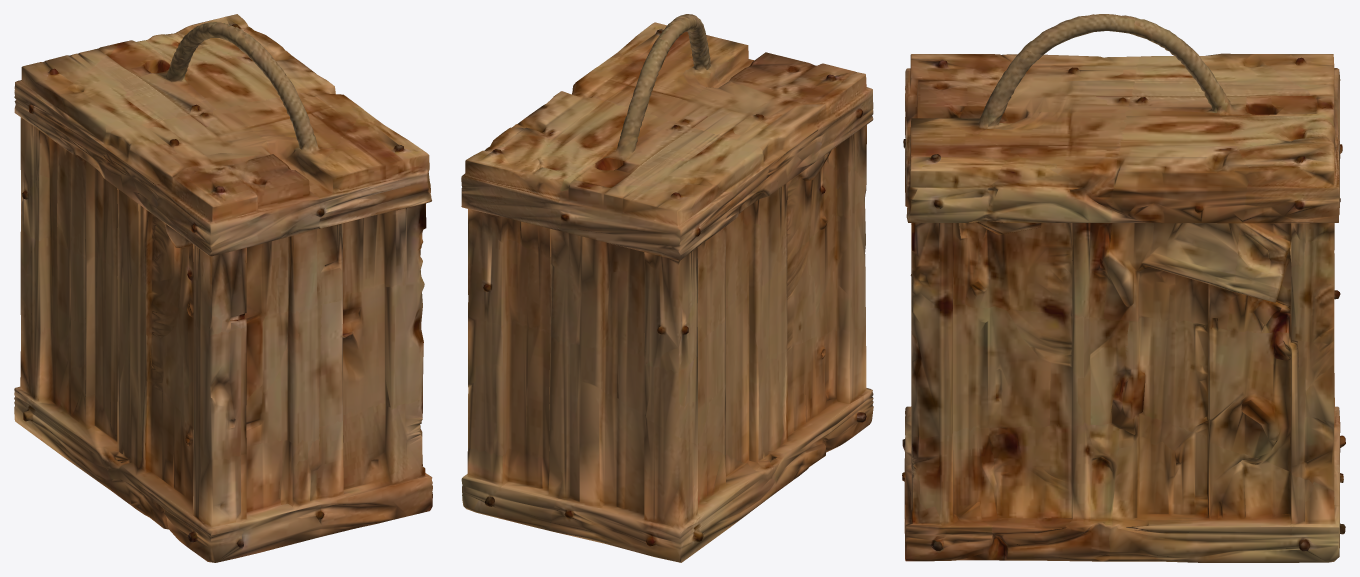
File: caja.glb
3 renders of one model, left to right at view 1: azimuth 30°, elevation 25°; view 2: azimuth 150°, elevation 25°; view 3: azimuth 270°, elevation 25°, orthographic. The views are drawn at different scales.
Visible parts, largest first — view 1: tripo_node_5d79e9c1-302f-4905-85cc-ac453ee6cfc8; view 2: tripo_node_5d79e9c1-302f-4905-85cc-ac453ee6cfc8; view 3: tripo_node_5d79e9c1-302f-4905-85cc-ac453ee6cfc8.
Part boxes in pixels (bbox=[...]): tripo_node_5d79e9c1-302f-4905-85cc-ac453ee6cfc8: bbox=[14, 14, 432, 562]; tripo_node_5d79e9c1-302f-4905-85cc-ac453ee6cfc8: bbox=[461, 14, 873, 562]; tripo_node_5d79e9c1-302f-4905-85cc-ac453ee6cfc8: bbox=[902, 14, 1345, 562].
Bounding box in the file's own units: 0.5524 × 0.9996 × 0.8205.
Materials: 1 (1 with a texture image).
